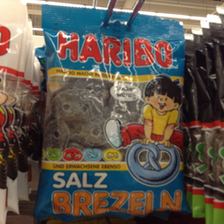candy: (42, 3, 186, 214)
